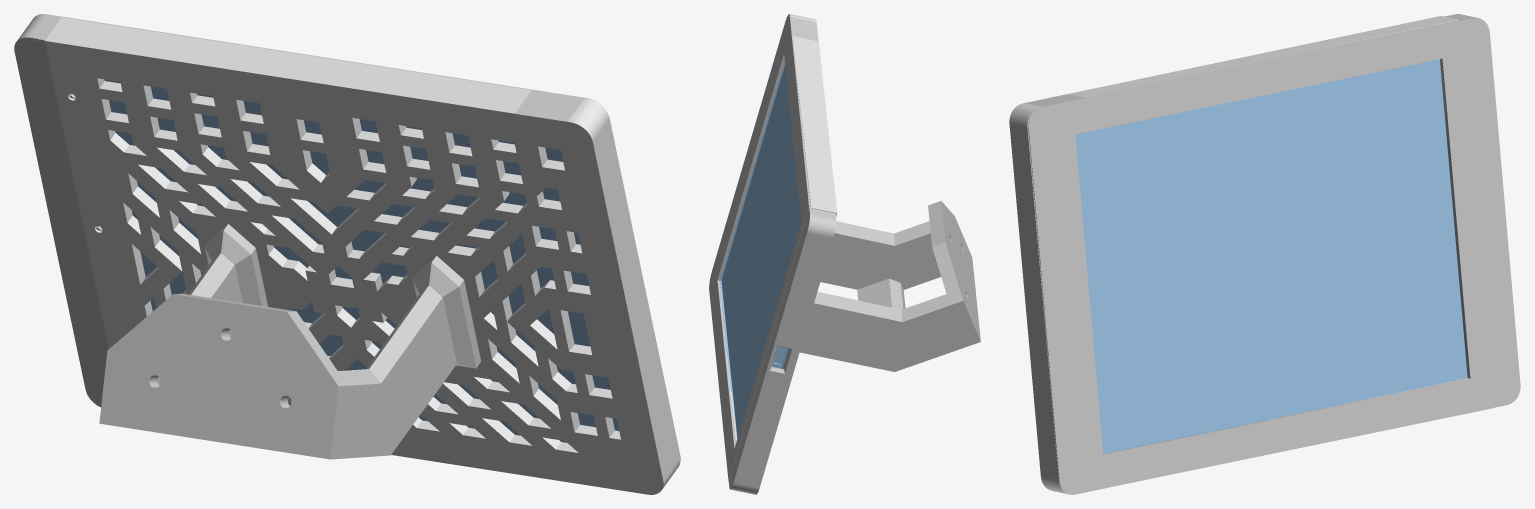
The model's file is tablet1.glb.
3 views of the same model, side by side, from view 1: azimuth 30°, elevation 25°; view 2: azimuth 150°, elevation 25°; view 3: azimuth 270°, elevation 25° (orthographic). The views are drawn at different scales.
Visible parts, largest first — view 1: Uchwyt na ipad v29, Uchwyt na ipad v35; view 2: Uchwyt na ipad v35, Uchwyt na ipad v29; view 3: Uchwyt na ipad v35, Uchwyt na ipad v29.
Boxes of the visible parts, bbox=[...] form: Uchwyt na ipad v29: bbox=[44, 17, 680, 494]; Uchwyt na ipad v35: bbox=[14, 14, 680, 459]; Uchwyt na ipad v35: bbox=[709, 14, 980, 494]; Uchwyt na ipad v29: bbox=[726, 14, 837, 443]; Uchwyt na ipad v35: bbox=[1025, 14, 1520, 494]; Uchwyt na ipad v29: bbox=[1009, 16, 1468, 494].
Bounding box in the file's own units: 73.06 × 64.75 × 78.42.
